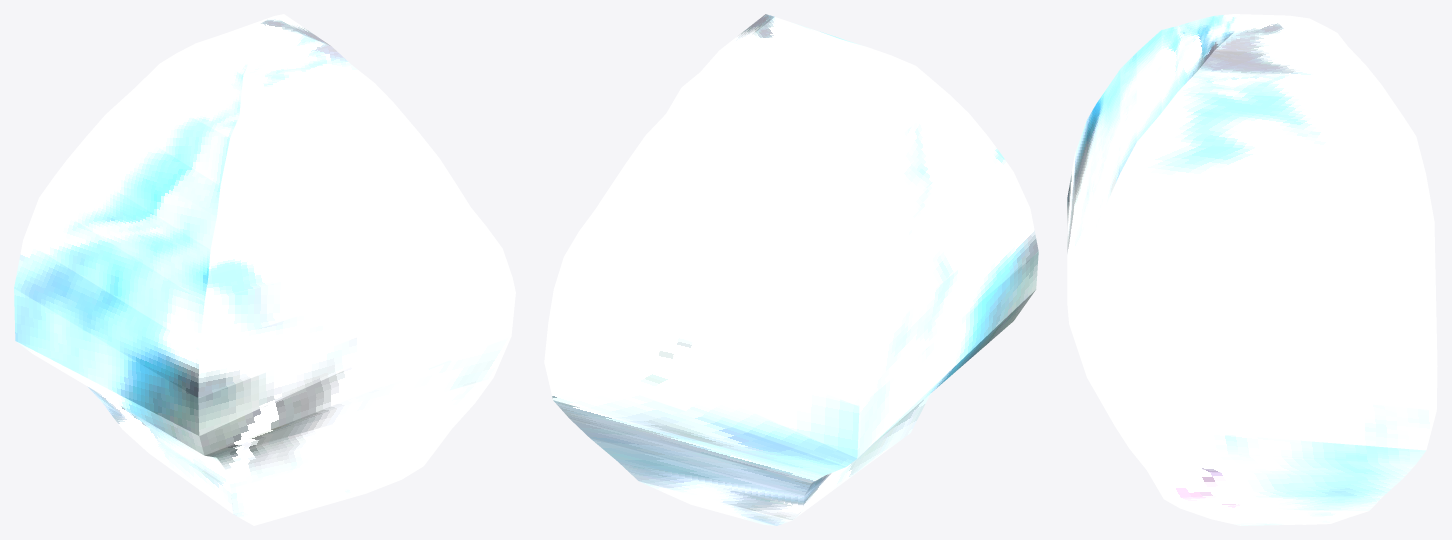
File: metamorphosis_v5_t.glb
3 views of the same model, side by side, from view 1: azimuth 30°, elevation 25°; view 2: azimuth 150°, elevation 25°; view 3: azimuth 270°, elevation 25° (orthographic). The views are drawn at different scales.
Parts seen in each view (by area): view 1: metamorphosis_v5; view 2: metamorphosis_v5; view 3: metamorphosis_v5.
Boxes of the visible parts, box(x1,y1,x2,y2) form: metamorphosis_v5: box(14, 14, 515, 525); metamorphosis_v5: box(544, 14, 1038, 525); metamorphosis_v5: box(1067, 14, 1437, 525).
Bounding box in the file's own units: 1.07 × 1.53 × 1.07.
